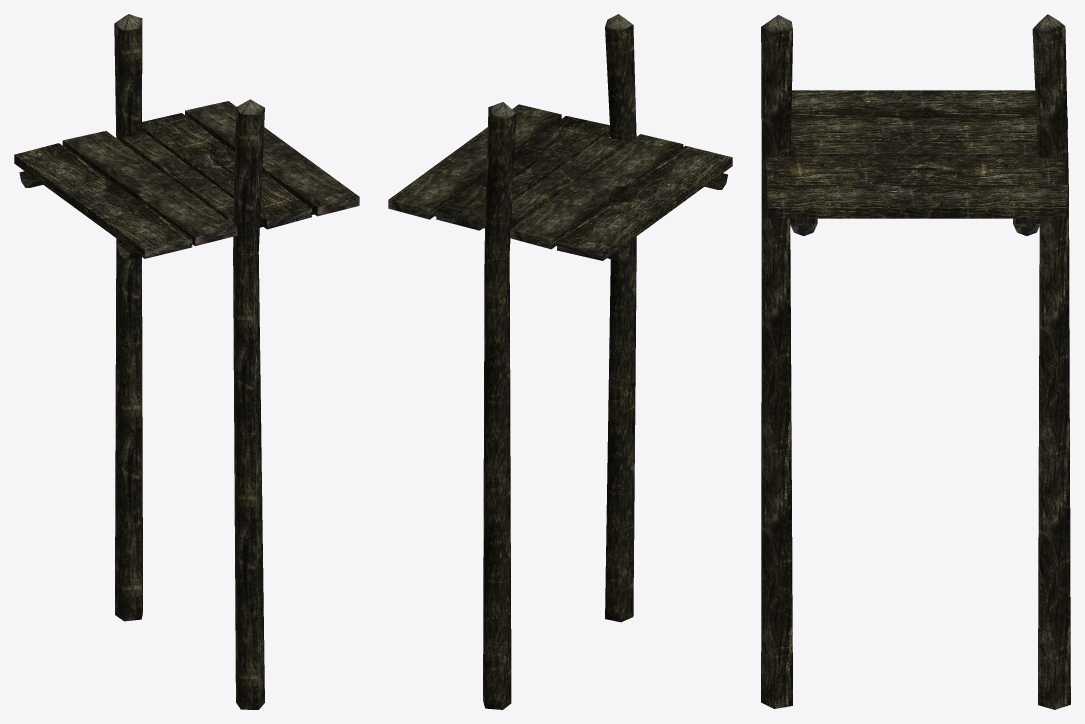
Rendered from ex_common_plat_end.obj.
The picture shows the model from 3 angles, left to right: view 1: azimuth 30°, elevation 25°; view 2: azimuth 150°, elevation 25°; view 3: azimuth 270°, elevation 25°; orthographic projection. The views are drawn at different scales.
Visible parts, largest first — view 1: nifid_16-matrix_Tri_Ex_common_plat_end_3-lib, nifid_21-matrix_Tri_Ex_common_plat_end_4-lib, nifid_11-matrix_Tri_Ex_common_plat_end_2-lib; view 2: nifid_16-matrix_Tri_Ex_common_plat_end_3-lib, nifid_21-matrix_Tri_Ex_common_plat_end_4-lib, nifid_11-matrix_Tri_Ex_common_plat_end_2-lib; view 3: nifid_16-matrix_Tri_Ex_common_plat_end_3-lib, nifid_21-matrix_Tri_Ex_common_plat_end_4-lib, nifid_11-matrix_Tri_Ex_common_plat_end_2-lib.
Boxes of the visible parts, <box> form: nifid_16-matrix_Tri_Ex_common_plat_end_3-lib: <box>14,21,359,709</box>; nifid_21-matrix_Tri_Ex_common_plat_end_4-lib: <box>144,197,359,258</box>; nifid_11-matrix_Tri_Ex_common_plat_end_2-lib: <box>114,14,264,114</box>; nifid_16-matrix_Tri_Ex_common_plat_end_3-lib: <box>388,25,732,709</box>; nifid_21-matrix_Tri_Ex_common_plat_end_4-lib: <box>388,200,602,260</box>; nifid_11-matrix_Tri_Ex_common_plat_end_2-lib: <box>488,14,632,118</box>; nifid_16-matrix_Tri_Ex_common_plat_end_3-lib: <box>761,26,1070,709</box>; nifid_21-matrix_Tri_Ex_common_plat_end_4-lib: <box>765,119,1067,236</box>; nifid_11-matrix_Tri_Ex_common_plat_end_2-lib: <box>761,14,1064,33</box>.
Size of the model in its own units: 6.5 by 16.57 by 6.77.
